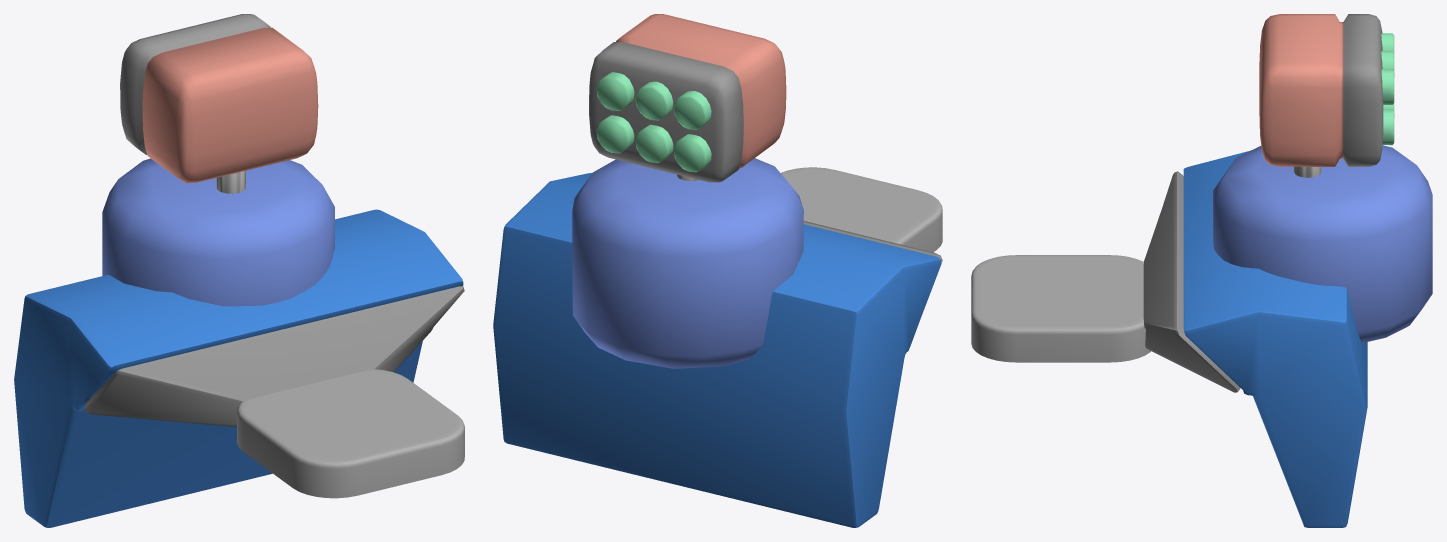
File: rocket_level1.fbx
The picture shows the model from 3 angles, left to right: view 1: azimuth 30°, elevation 25°; view 2: azimuth 150°, elevation 25°; view 3: azimuth 270°, elevation 25°; orthographic projection. The views are drawn at different scales.
Visible parts, largest first — view 1: WeaponBase, rocket_bottom, rocket_level1; view 2: WeaponBase, rocket_bottom, rocket_level1; view 3: WeaponBase, rocket_bottom, rocket_level1.
Part boxes in pixels (box(x1,y1,x2,y2)): WeaponBase: box(14, 209, 464, 527); rocket_bottom: box(102, 158, 334, 306); rocket_level1: box(120, 14, 318, 182); WeaponBase: box(493, 167, 942, 527); rocket_bottom: box(572, 158, 803, 368); rocket_level1: box(589, 14, 786, 182); WeaponBase: box(971, 151, 1367, 527); rocket_bottom: box(1213, 145, 1432, 342); rocket_level1: box(1259, 14, 1394, 166).
Size of the model in its own units: 92.27 by 107 by 109.
